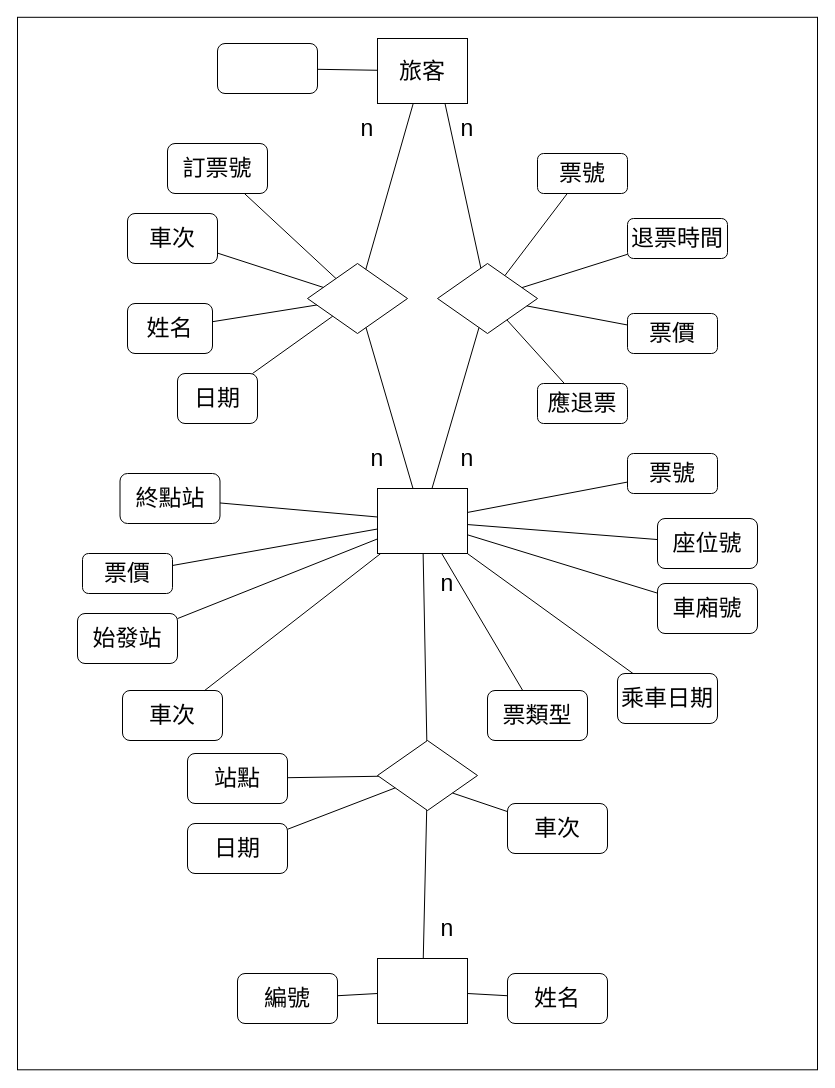
Some shapes in this 835 by 1088 pixel diagram are drawn without their labels. The shapes that lost their labels are listed below. From the top down, each one's centre as x and y in pixels, then its label:
the point at 267,68: 旅客名稱
the point at 357,298: 訂票
the point at 487,298: 退票
the point at 422,521: 車票
the point at 427,775: 售票
the point at 422,991: 售票員
